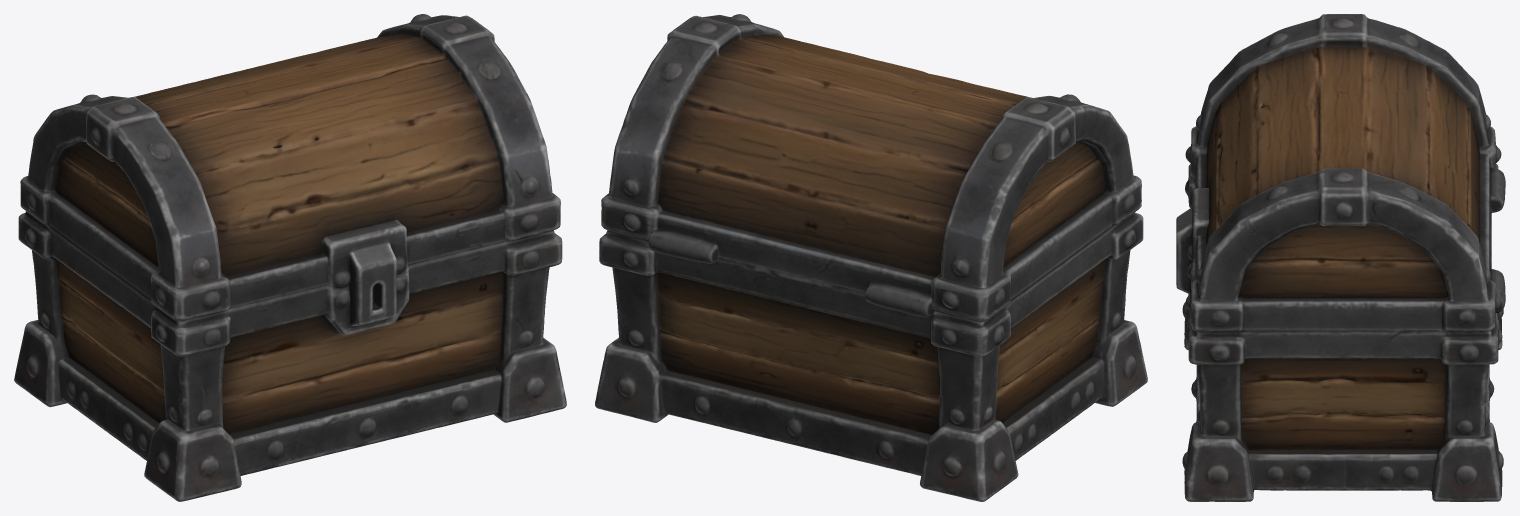
Rendered from TreasureChest.glb.
3 views of the same model, side by side, from view 1: azimuth 30°, elevation 25°; view 2: azimuth 150°, elevation 25°; view 3: azimuth 270°, elevation 25° (orthographic). The views are drawn at different scales.
Parts seen in each view (by area): view 1: world; view 2: world; view 3: world.
Boxes of the visible parts, bbox=[...] form: world: bbox=[14, 14, 566, 501]; world: bbox=[595, 14, 1147, 501]; world: bbox=[1176, 14, 1505, 501].
Bounding box in the file's own units: 1.01 × 0.8088 × 0.7637.
1 material, 1 textured.
